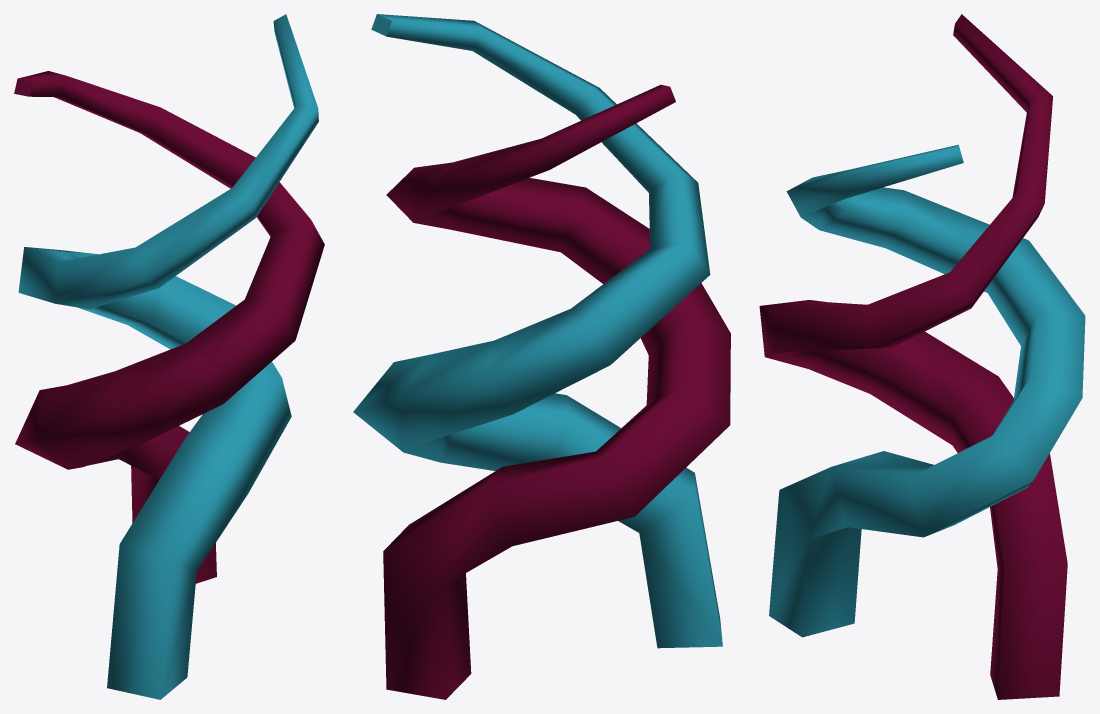
Rendered from Plant.glb.
3 views of the same model, side by side, from view 1: azimuth 30°, elevation 25°; view 2: azimuth 150°, elevation 25°; view 3: azimuth 270°, elevation 25° (orthographic). The views are drawn at different scales.
Parts seen in each view (by area): view 1: Plant_2; view 2: Plant_2; view 3: Plant_2.
Boxes of the visible parts, left/top/right/bottom form: Plant_2: left=14, top=14, right=324, bottom=699; Plant_2: left=353, top=14, right=730, bottom=699; Plant_2: left=759, top=14, right=1085, bottom=699.
Size of the model in its own units: 1.06 by 1.97 by 1.01.
1 material, 1 textured.
